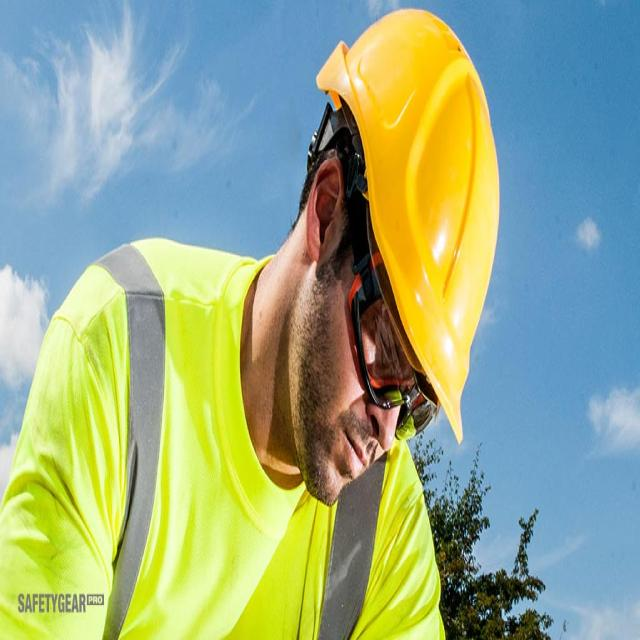goggles: (330, 267, 454, 454)
helmet: (316, 12, 505, 442)
vest: (0, 231, 283, 640)
